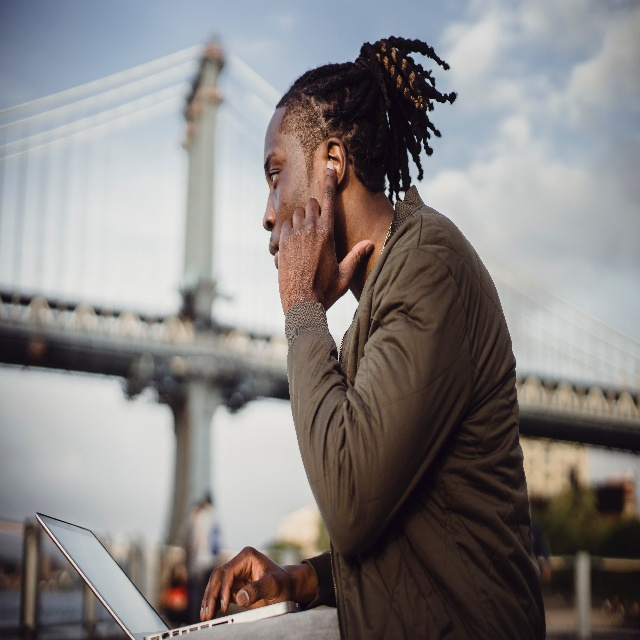Sin_guantes: (274, 159, 374, 310), (196, 541, 296, 611)
